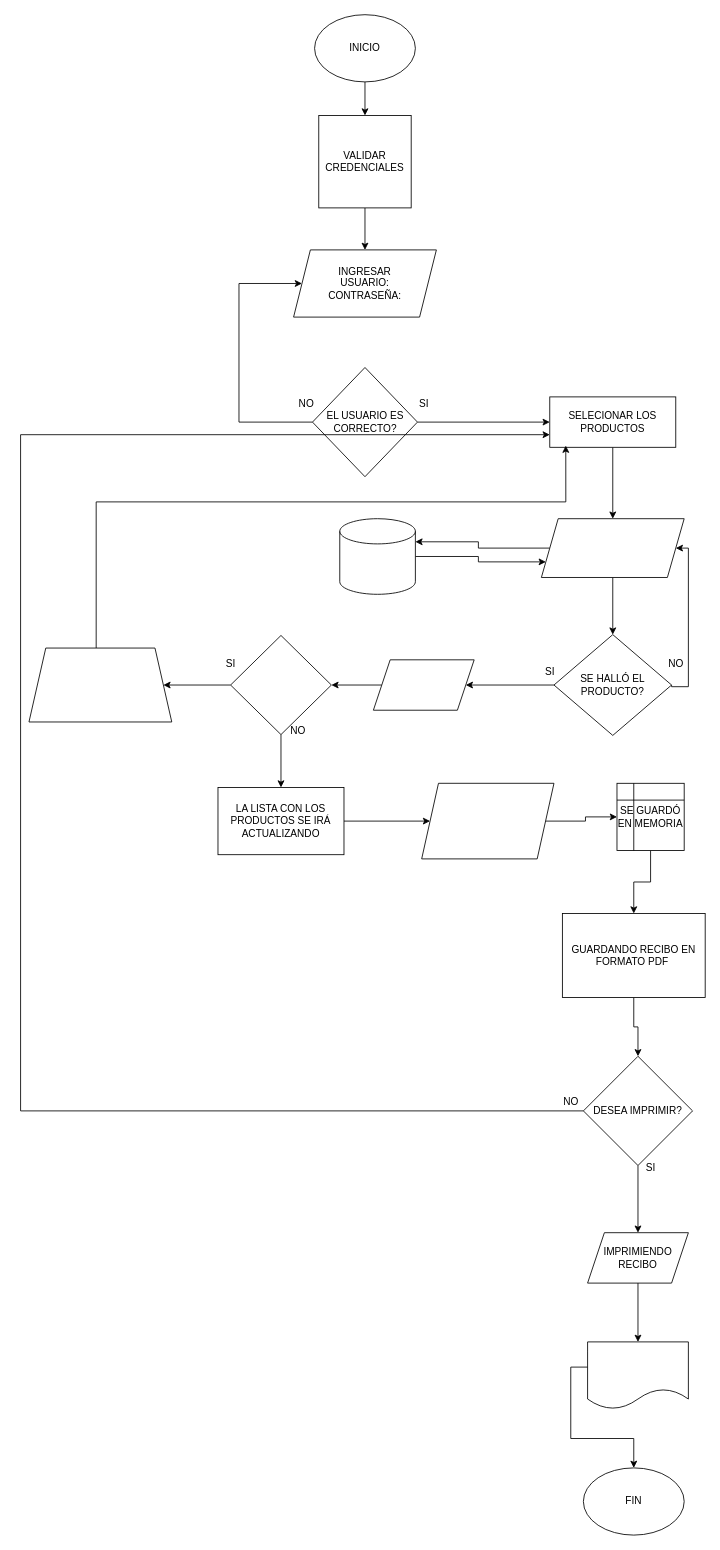
Image size: 720x1550. Some labels were removed from this diagram. The box of each missing label's shape, as (x1, y1, x2, y2) in pixels:
BUSCAR EL PRODUCTO: CODIGO, NOMBRE: (541, 518, 684, 578)
DESEA AGG MAS PROD?: (230, 635, 331, 735)
INGRESA LA CANTIDAD: 1... n: (373, 659, 474, 710)
LISTA: PROD1: VALOR x CANT.: (421, 782, 554, 859)
RECIBO IMPRESO: (587, 1341, 688, 1409)
REPETIR LAS VECES QUE SEA NECESARIO: (28, 647, 172, 722)
